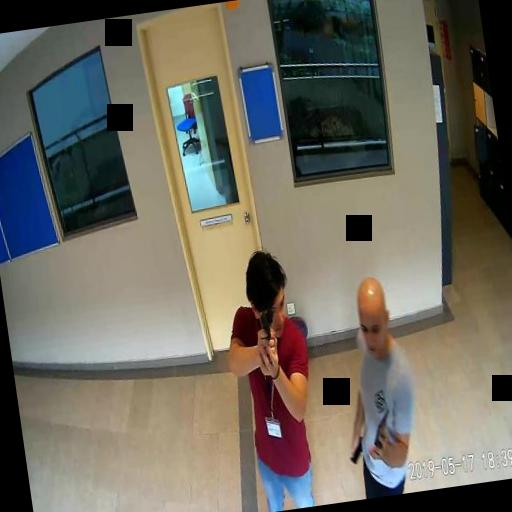Handgun: (258, 308, 278, 358)
